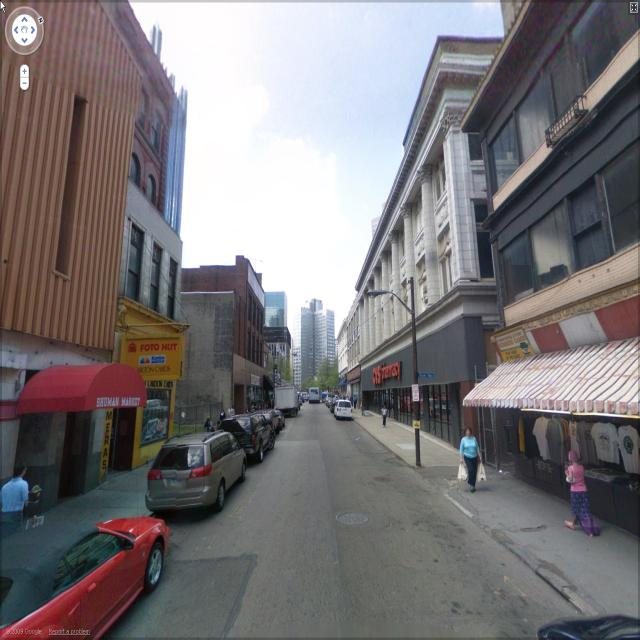b_1: (363, 40, 491, 442), (1, 51, 118, 410), (109, 185, 189, 459), (122, 22, 170, 215), (151, 69, 199, 250), (230, 266, 284, 422), (291, 292, 341, 405), (323, 290, 372, 400), (265, 287, 287, 335)
b_2: (305, 348, 357, 403)
